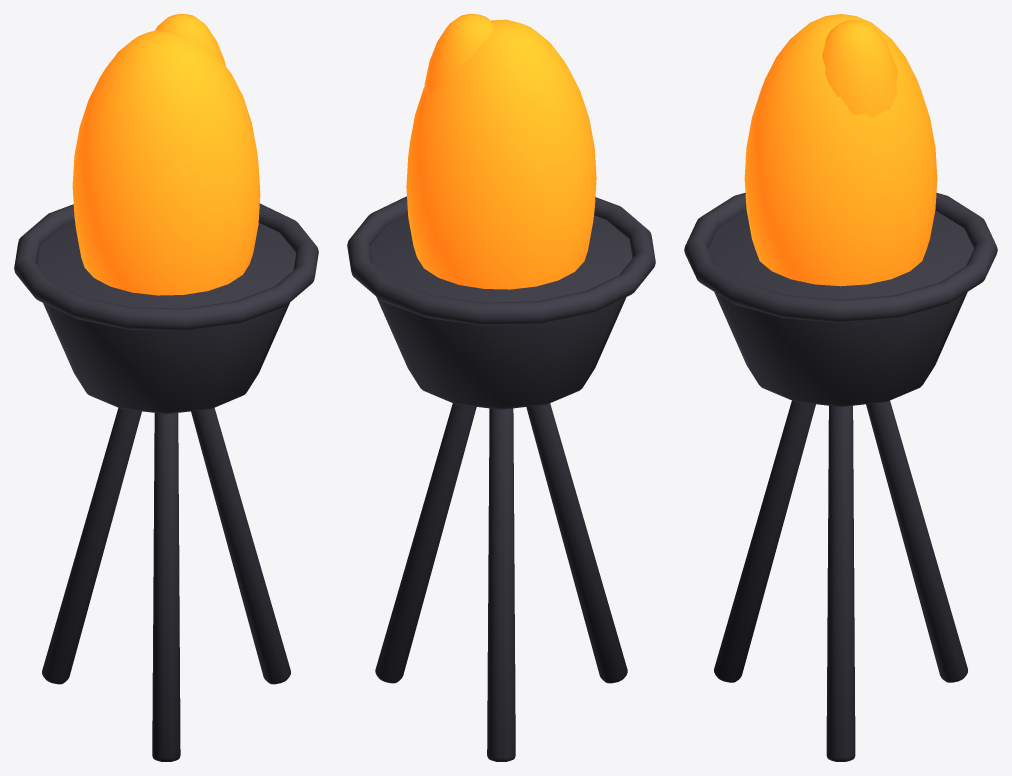
The model's file is torch.glb.
3 renders of one model, left to right at view 1: azimuth 30°, elevation 25°; view 2: azimuth 150°, elevation 25°; view 3: azimuth 270°, elevation 25°, orthographic. The views are drawn at different scales.
Visible parts, largest first — view 1: torch_bowl, torch_fire; view 2: torch_bowl, torch_fire; view 3: torch_bowl, torch_fire.
Boxes of the visible parts, bbox=[...] form: torch_bowl: bbox=[14, 203, 318, 761]; torch_fire: bbox=[72, 14, 260, 295]; torch_bowl: bbox=[347, 196, 655, 761]; torch_fire: bbox=[406, 14, 596, 289]; torch_bowl: bbox=[684, 193, 997, 761]; torch_fire: bbox=[744, 14, 937, 286].
Bounding box in the file's own units: 1.19 × 2.91 × 1.19.
